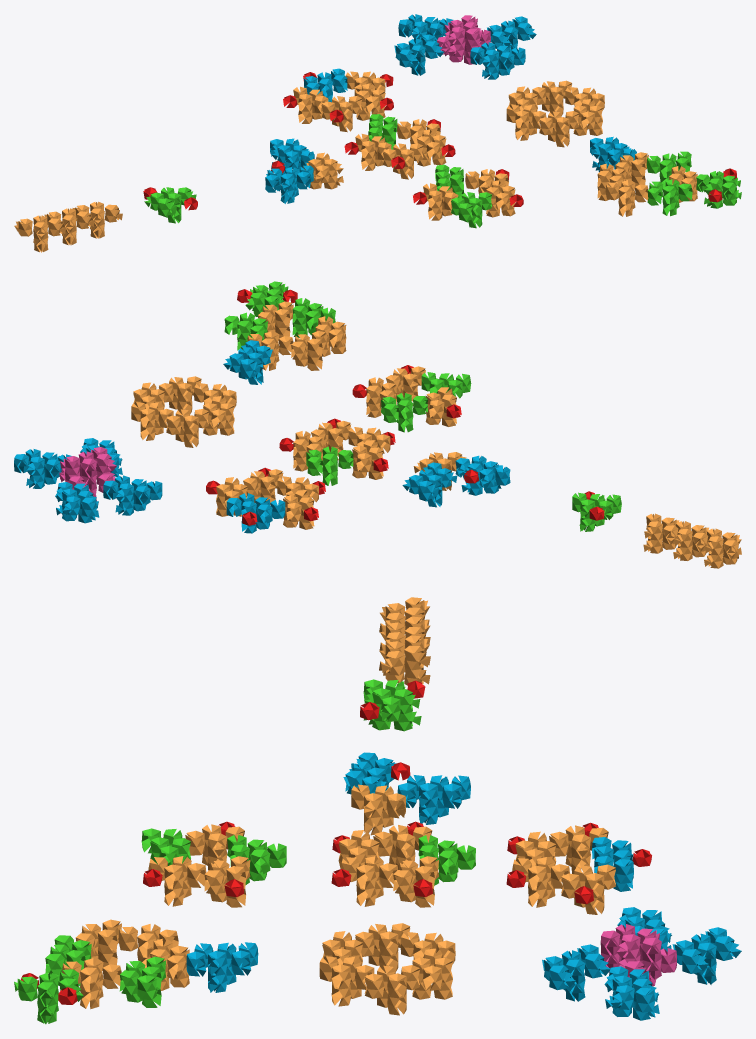
File: 03_functional_groups.fbx
3 views of the same model, one above another, from view 1: azimuth 30°, elevation 25°; view 2: azimuth 150°, elevation 25°; view 3: azimuth 270°, elevation 25° (orthographic). The views are drawn at different scales.
Visible parts, largest first — view 1: Body2 (×8), Body1 (×6), Body3 (×6), Body4 (×6), Body5 (×4), Body7 (×4), Body9 (×2), Body6 (×2), Body8, Body11, Body10; view 2: Body2 (×8), Body3 (×6), Body1 (×6), Body4 (×6), Body5 (×4), Body7 (×4), Body9 (×2), Body6 (×2), Body10, Body11, Body8; view 3: Body2 (×8), Body1 (×6), Body3 (×6), Body4 (×6), Body5 (×4), Body7 (×4), Body9 (×2), Body6 (×2), Body10, Body8, Body11.
Part boxes in pixels (box(x1,y1,x2,y2)): Body2 (×8): box(14, 42, 648, 252); Body1 (×6): box(72, 15, 648, 238); Body3 (×6): box(44, 14, 697, 245); Body4 (×6): box(345, 34, 691, 228); Body5 (×4): box(382, 16, 571, 220); Body7 (×4): box(321, 96, 626, 200); Body9 (×2): box(303, 68, 397, 149); Body6 (×2): box(293, 86, 537, 123); Body8: box(696, 171, 741, 208); Body11: box(647, 179, 692, 216); Body10: box(590, 136, 636, 172); Body2 (×8): box(80, 316, 741, 568); Body3 (×6): box(55, 301, 708, 560); Body1 (×6): box(59, 331, 679, 553); Body4 (×6): box(103, 312, 471, 516); Body5 (×4): box(14, 387, 456, 488); Body7 (×4): box(277, 331, 396, 502); Body9 (×2): box(226, 446, 353, 533); Body6 (×2): box(166, 409, 314, 529); Body10: box(223, 340, 272, 384); Body11: box(292, 298, 335, 337); Body8: box(245, 281, 288, 316); Body2 (×8): box(75, 597, 610, 1006); Body1 (×6): box(150, 635, 676, 990); Body3 (×6): box(62, 616, 741, 1009); Body4 (×6): box(119, 825, 671, 1015); Body5 (×4): box(185, 824, 659, 1020); Body7 (×4): box(118, 831, 556, 967); Body9 (×2): box(418, 835, 633, 891); Body6 (×2): box(400, 825, 608, 963); Body10: box(186, 942, 258, 992); Body8: box(14, 969, 83, 1024); Body11: box(45, 935, 91, 991).
Size of the model in its own units: 26007 by 1557 by 20033.
